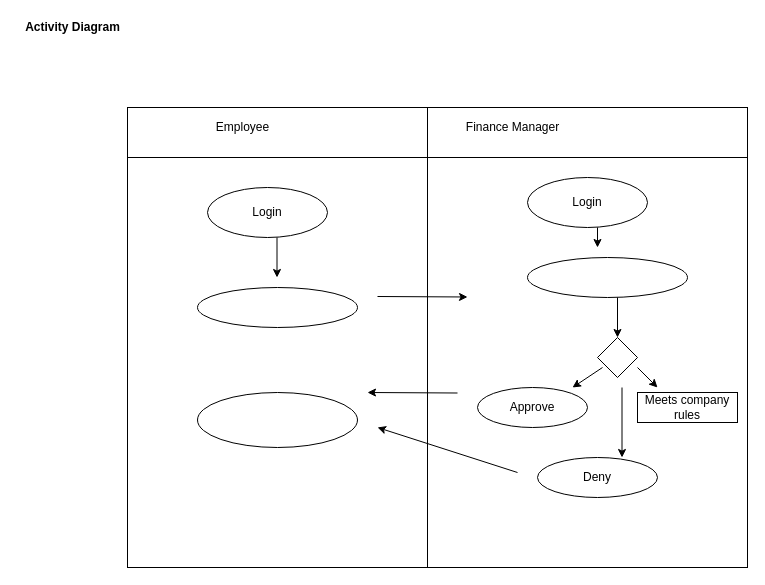
This 765x585 diagram has some shape labels left out. The centre of each missing label's shape, as x and y in pixels:
"Add reimbursement request" belongs at pixel 277 307.
"View pending request" belongs at pixel 607 277.
"View updated statuses" belongs at pixel 277 420.
